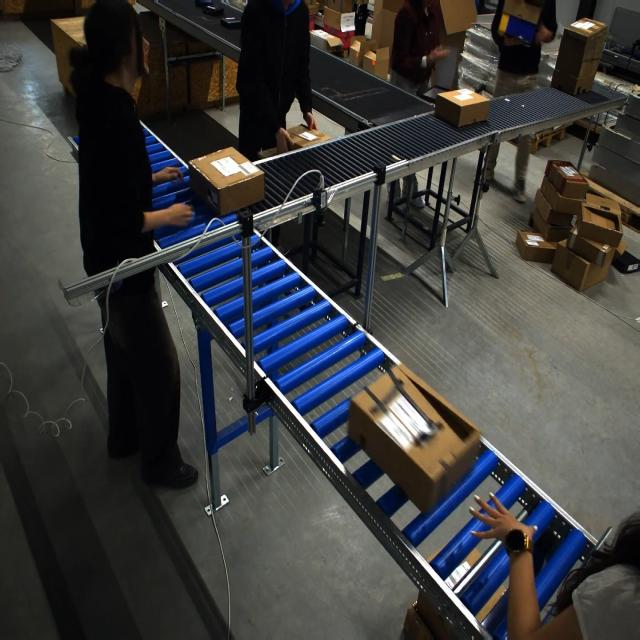box: (361, 389, 479, 507), (188, 147, 264, 217), (434, 88, 490, 129), (286, 124, 331, 150)
product: (220, 16, 242, 28), (202, 5, 224, 16), (195, 0, 214, 8)
